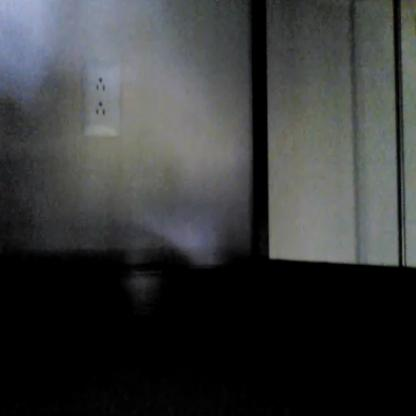OUTLET: (80, 61, 123, 137)
